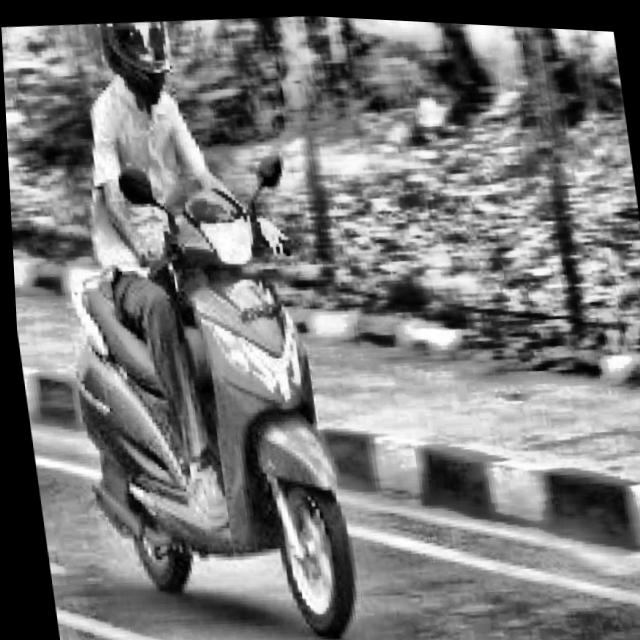motorcycle: (34, 143, 412, 640)
